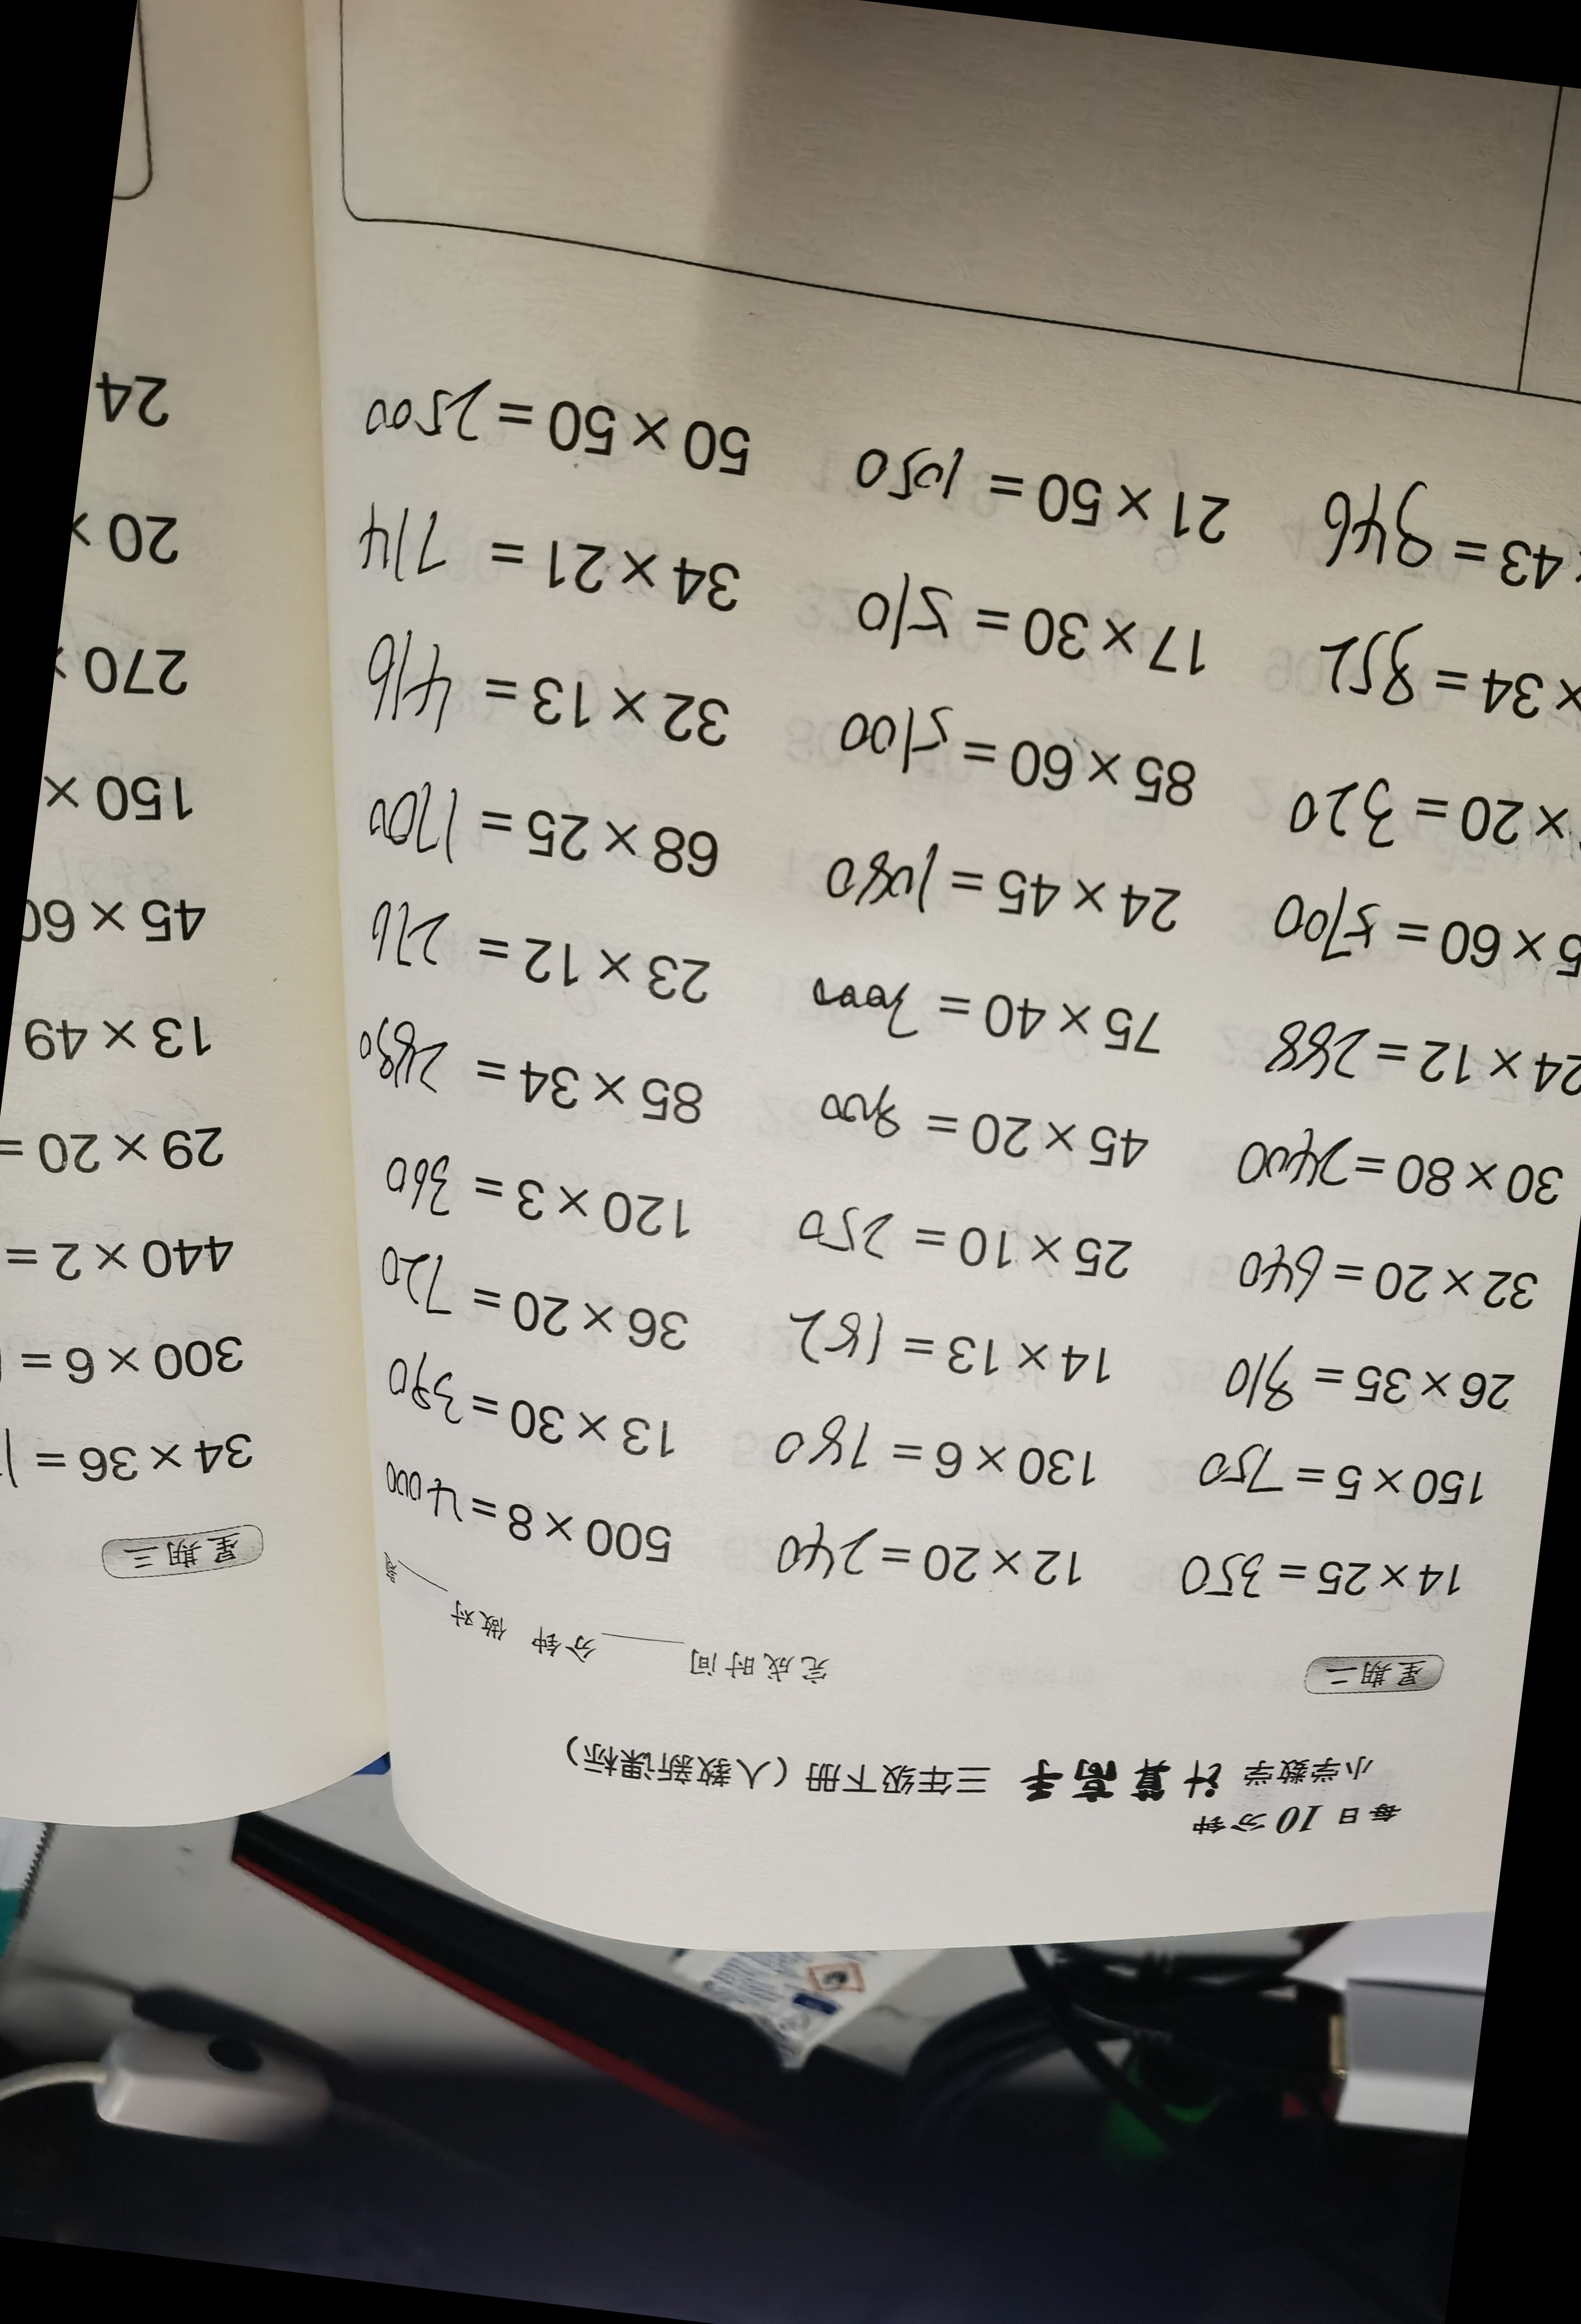equation: (813, 413, 1237, 556), (311, 637, 727, 782), (328, 353, 762, 478), (344, 1461, 701, 1613), (349, 494, 752, 628), (810, 690, 1209, 810), (351, 1016, 711, 1149), (838, 586, 1240, 699), (346, 907, 720, 1025), (794, 838, 1196, 948), (355, 1230, 704, 1352), (355, 1126, 701, 1248), (773, 956, 1166, 1059), (1308, 466, 1581, 605), (356, 783, 722, 888), (780, 1195, 1156, 1295), (355, 1352, 681, 1466), (1237, 1006, 1581, 1113), (1262, 759, 1581, 873), (794, 1075, 1158, 1172), (757, 1405, 1105, 1505), (1290, 619, 1581, 732), (1242, 891, 1581, 986), (1159, 1537, 1482, 1636), (1216, 1237, 1544, 1334), (755, 1523, 1096, 1615), (1223, 1136, 1569, 1226), (778, 1302, 1128, 1391), (1214, 1352, 1521, 1433), (1196, 1438, 1500, 1519)
